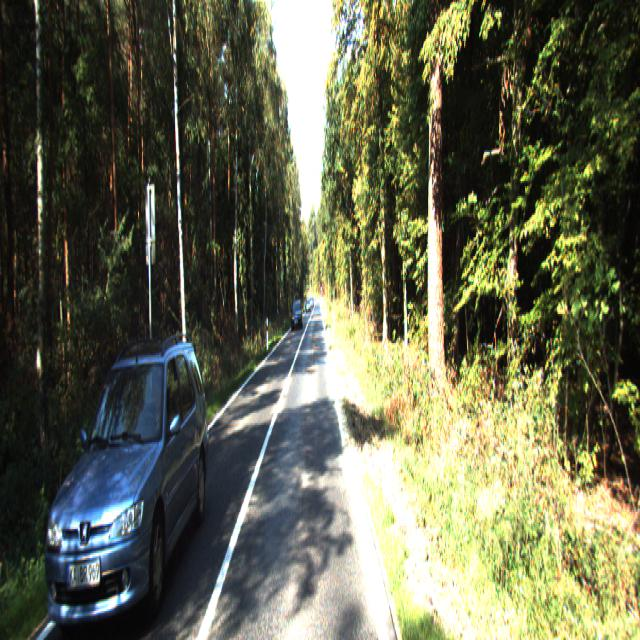Car: (44, 324, 218, 638)
